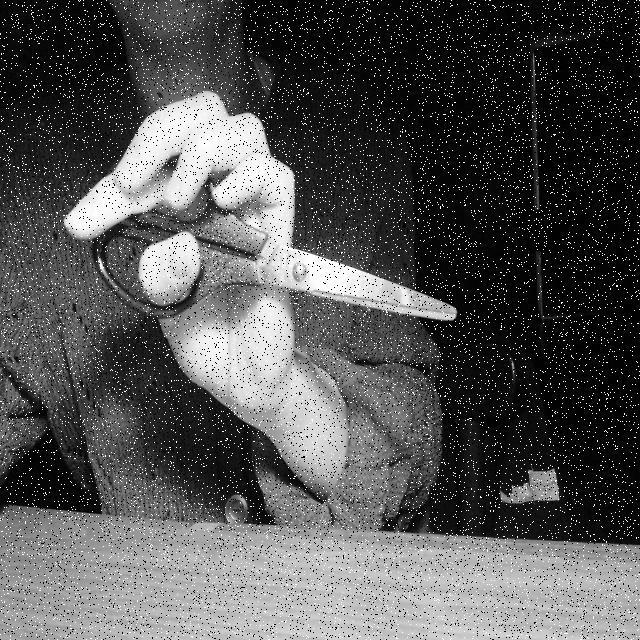scissors: (90, 135, 462, 329)
